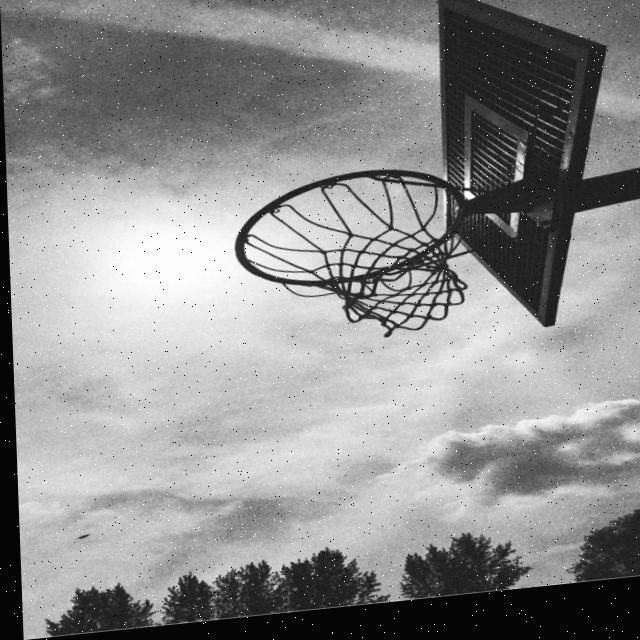hoop: (195, 173, 548, 360)
